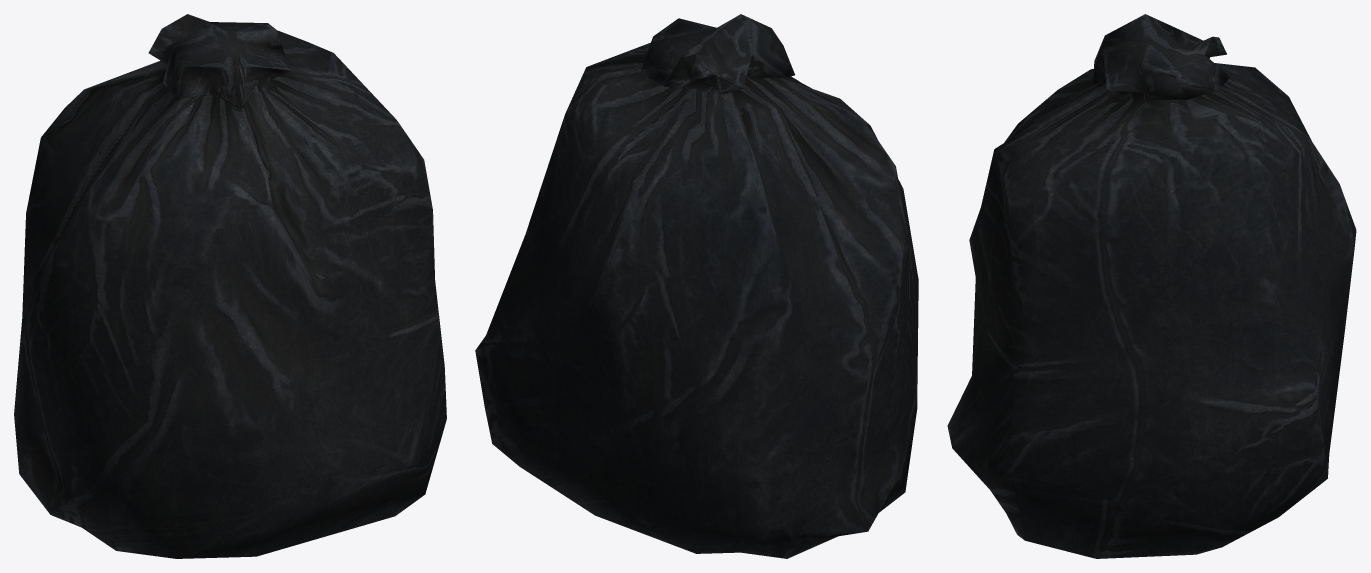
Rendered from garbage_bag01.fbx.
3 renders of one model, left to right at view 1: azimuth 30°, elevation 25°; view 2: azimuth 150°, elevation 25°; view 3: azimuth 270°, elevation 25°, orthographic. The views are drawn at different scales.
Parts seen in each view (by area): view 1: bag1; view 2: bag1; view 3: bag1.
Part boxes in pixels (x1=…): bag1: x1=14, y1=14, x2=446, y2=558; bag1: x1=475, y1=14, x2=918, y2=558; bag1: x1=947, y1=14, x2=1356, y2=558.
Bounding box in the file's own units: 0.4645 × 0.5845 × 0.4602.
